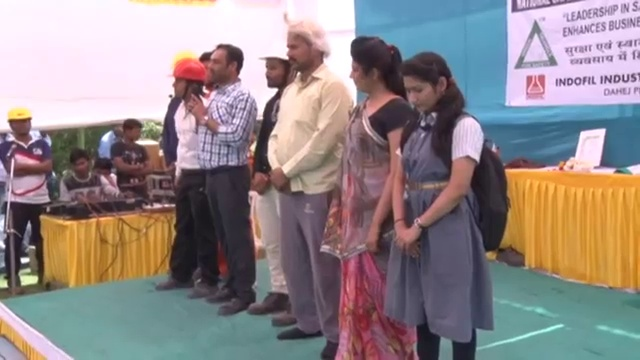helmet: (166, 55, 209, 83), (258, 39, 289, 63), (2, 103, 35, 122)
helmet_off: (396, 49, 458, 126), (345, 35, 402, 100), (278, 22, 330, 73), (201, 43, 245, 94), (66, 147, 90, 178), (120, 120, 144, 146), (92, 157, 114, 179), (109, 121, 124, 139)
helmet_on: (165, 56, 209, 105), (258, 39, 289, 89), (2, 103, 35, 144)
person: (385, 35, 513, 360), (266, 12, 350, 352), (328, 49, 411, 359), (190, 41, 258, 316), (153, 56, 222, 300), (249, 39, 299, 329), (0, 103, 50, 296), (59, 147, 124, 204), (110, 120, 149, 189), (96, 120, 125, 158)
